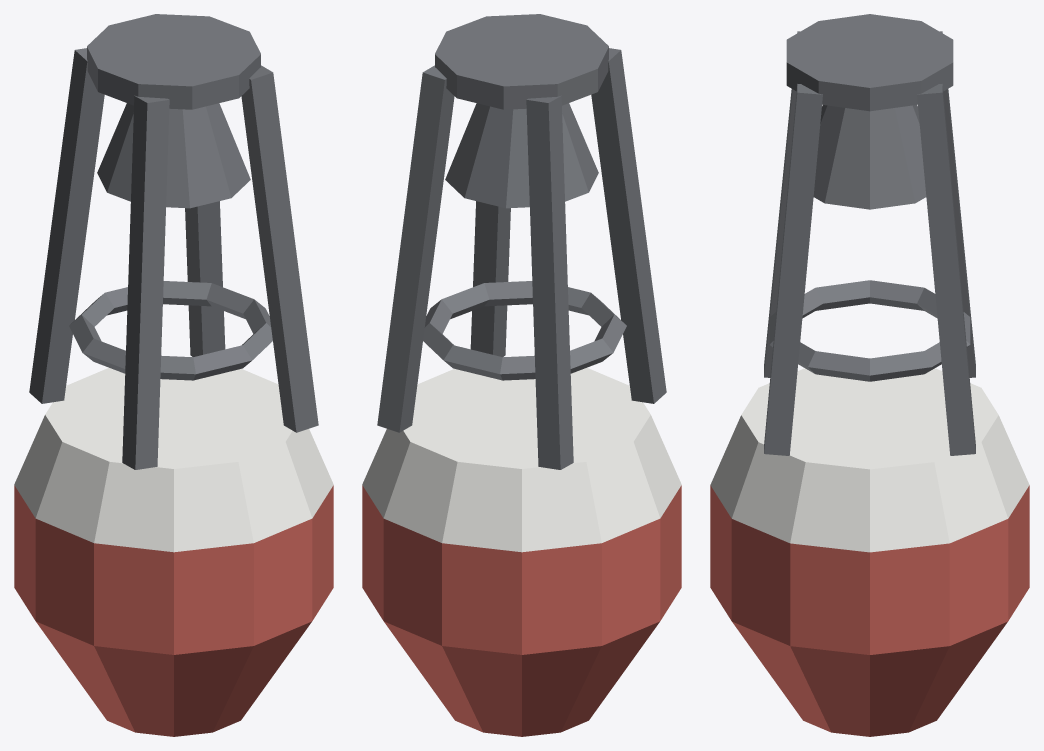
The model's file is lighthouse-and-rocky-coast-bell-buoy-aa1af44e__36626.glb.
3 renders of one model, left to right at view 1: azimuth 30°, elevation 25°; view 2: azimuth 150°, elevation 25°; view 3: azimuth 270°, elevation 25°, orthographic.
Parts seen in each view (by area): view 1: bell-buoy; view 2: bell-buoy; view 3: bell-buoy.
Part boxes in pixels (x1,y1,x2,y2): bell-buoy: (14,14,333,736); bell-buoy: (362,14,681,736); bell-buoy: (710,14,1029,736).
Bounding box in the file's own units: 1.24 × 2.8 × 1.24.
